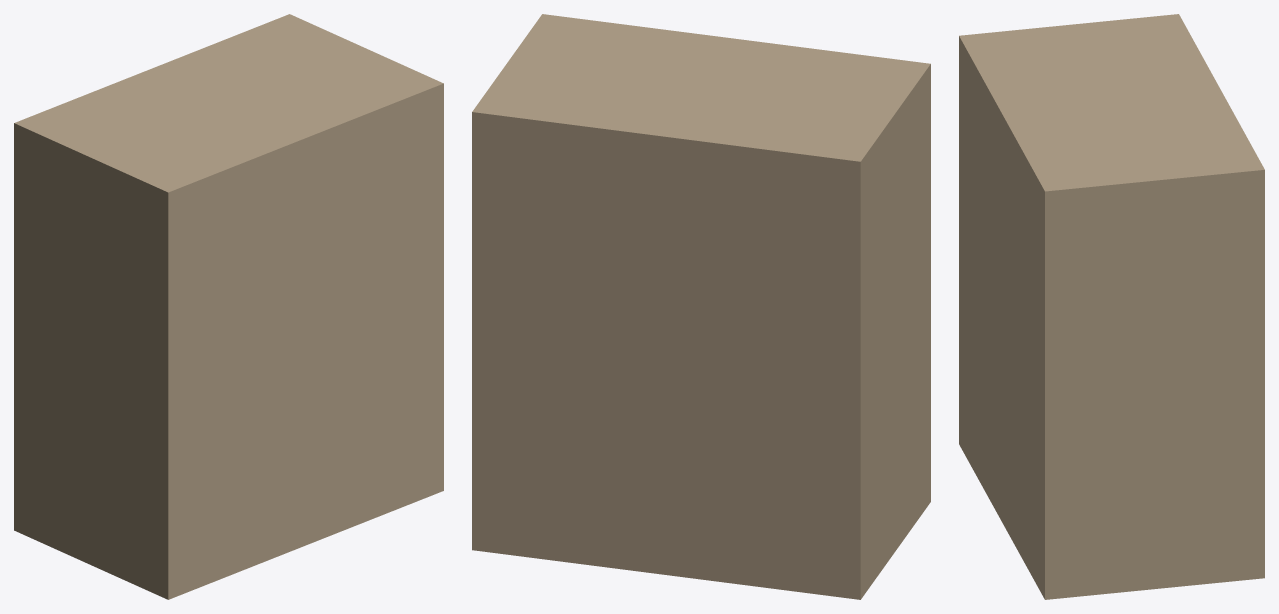
Rendered from bld_107642963.dae.
The picture shows the model from 3 angles, left to right: view 1: azimuth 30°, elevation 25°; view 2: azimuth 150°, elevation 25°; view 3: azimuth 270°, elevation 25°; orthographic projection. The views are drawn at different scales.
Parts seen in each view (by area): view 1: bld_107642963; view 2: bld_107642963; view 3: bld_107642963.
Part boxes in pixels (x1,y1,x2,y2): bld_107642963: (14, 14, 443, 599); bld_107642963: (472, 14, 930, 599); bld_107642963: (959, 14, 1264, 599).
Size of the model in its own units: 11.19 by 8.15 by 12.
